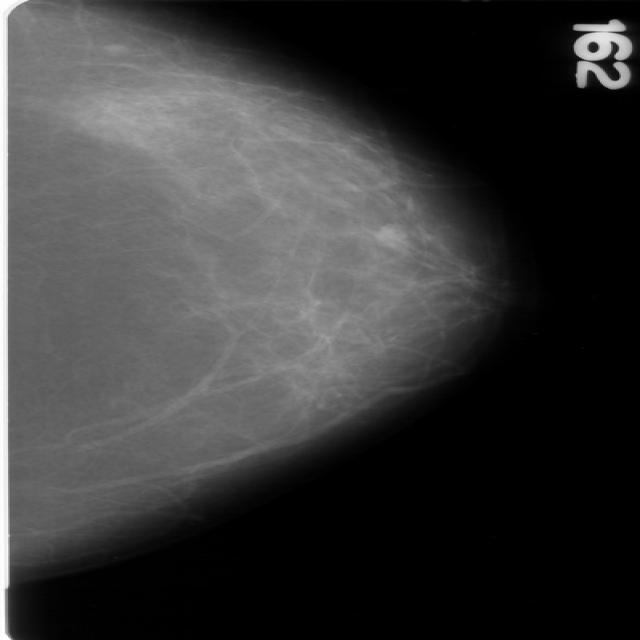tumour: (374, 222, 406, 248)
